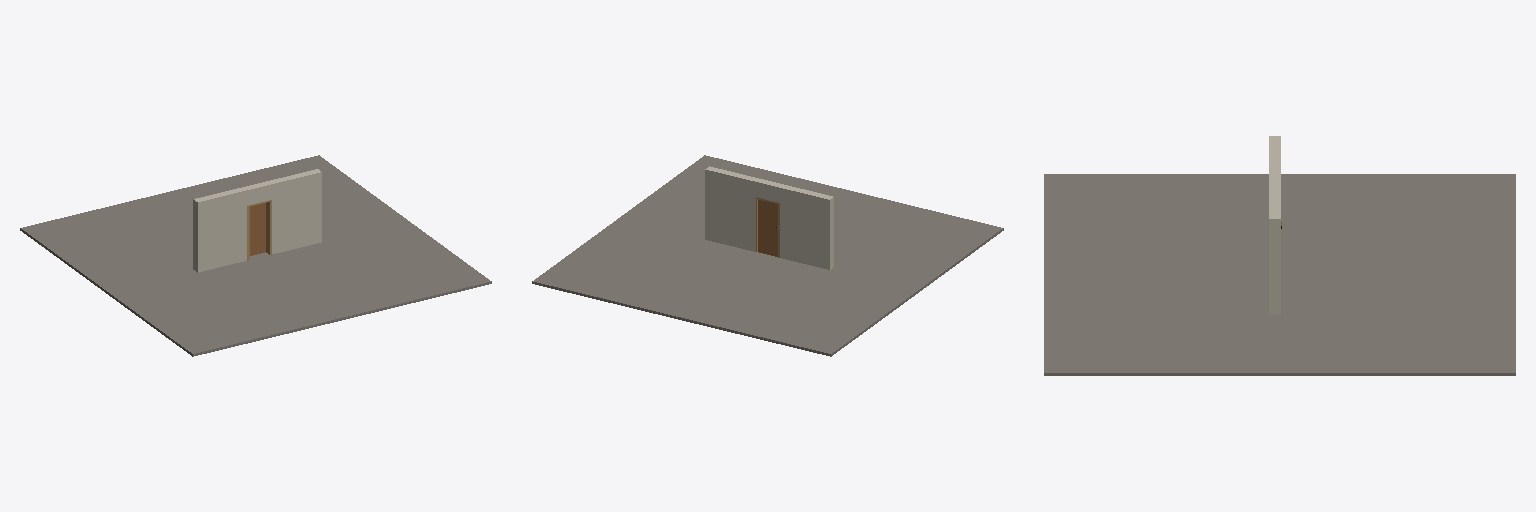
robot.urdf — db0243_swing_single_minimal:
<?xml version="1.0" ?>
<robot xmlns:doorbench="https://github.com/adamraudonis/DoorBench/schema/urdf-ext" name="db0243_swing_single_minimal">
  <link name="world_env">
    <visual name="floor_vis">
      <origin xyz="0 0 -0.05" rpy="0 0 0"/>
      <geometry>
        <box size="12 12 0.1"/>
      </geometry>
      <material name="mat_floor"/>
    </visual>
    <collision name="floor_col">
      <origin xyz="0 0 -0.05" rpy="0 0 0"/>
      <geometry>
        <box size="12 12 0.1"/>
      </geometry>
    </collision>
    <visual name="wall_left_vis">
      <origin xyz="-1.50025 -0.121 1.35" rpy="0 0 0"/>
      <geometry>
        <box size="1.9995 0.3 2.7"/>
      </geometry>
      <material name="mat_wall"/>
    </visual>
    <collision name="wall_left_col">
      <origin xyz="-1.50025 -0.121 1.35" rpy="0 0 0"/>
      <geometry>
        <box size="1.9995 0.3 2.7"/>
      </geometry>
    </collision>
    <visual name="wall_right_vis">
      <origin xyz="1.48525 -0.121 1.35" rpy="0 0 0"/>
      <geometry>
        <box size="2.0295 0.3 2.7"/>
      </geometry>
      <material name="mat_wall"/>
    </visual>
    <collision name="wall_right_col">
      <origin xyz="1.48525 -0.121 1.35" rpy="0 0 0"/>
      <geometry>
        <box size="2.0295 0.3 2.7"/>
      </geometry>
    </collision>
    <visual name="wall_header_vis">
      <origin xyz="-0.015 -0.121 2.4175" rpy="0 0 0"/>
      <geometry>
        <box size="0.971 0.3 0.565"/>
      </geometry>
      <material name="mat_wall"/>
    </visual>
    <collision name="wall_header_col">
      <origin xyz="-0.015 -0.121 2.4175" rpy="0 0 0"/>
      <geometry>
        <box size="0.971 0.3 0.565"/>
      </geometry>
    </collision>
    <visual name="jamb_hinge_vis">
      <origin xyz="0.4405 -0.121 1.0225" rpy="0 0 0"/>
      <geometry>
        <box size="0.06 0.3 2.045"/>
      </geometry>
      <material name="mat_frame"/>
    </visual>
    <collision name="jamb_hinge_col">
      <origin xyz="0.4405 -0.121 1.0225" rpy="0 0 0"/>
      <geometry>
        <box size="0.06 0.3 2.045"/>
      </geometry>
    </collision>
    <visual name="strike_1185_wall_n_vis">
      <origin xyz="-0.4555 -0.1235 1.185" rpy="0 0 0"/>
      <geometry>
        <box size="0.09 0.295 0.14"/>
      </geometry>
      <material name="mat_frame"/>
    </visual>
    <collision name="strike_1185_wall_n_col">
      <origin xyz="-0.4555 -0.1235 1.185" rpy="0 0 0"/>
      <geometry>
        <box size="0.09 0.295 0.14"/>
      </geometry>
    </collision>
    <visual name="strike_1185_wall_p_vis">
      <origin xyz="-0.4255 0.047 1.185" rpy="0 0 0"/>
      <geometry>
        <box size="0.03 0.006 0.14"/>
      </geometry>
      <material name="mat_frame"/>
    </visual>
    <collision name="strike_1185_wall_p_col">
      <origin xyz="-0.4255 0.047 1.185" rpy="0 0 0"/>
      <geometry>
        <box size="0.03 0.006 0.14"/>
      </geometry>
    </collision>
    <visual name="strike_1185_back_vis">
      <origin xyz="-0.4655 0.034 1.185" rpy="0 0 0"/>
      <geometry>
        <box size="0.07 0.02 0.14"/>
      </geometry>
      <material name="mat_frame"/>
    </visual>
    <collision name="strike_1185_back_col">
      <origin xyz="-0.4655 0.034 1.185" rpy="0 0 0"/>
      <geometry>
        <box size="0.07 0.02 0.14"/>
      </geometry>
    </collision>
    <visual name="jamb_strike_0_vis">
      <origin xyz="-0.4555 -0.121 0.5575" rpy="0 0 0"/>
      <geometry>
        <box size="0.09 0.3 1.115"/>
      </geometry>
      <material name="mat_frame"/>
    </visual>
    <collision name="jamb_strike_0_col">
      <origin xyz="-0.4555 -0.121 0.5575" rpy="0 0 0"/>
      <geometry>
        <box size="0.09 0.3 1.115"/>
      </geometry>
    </collision>
    <visual name="jamb_strike_1_vis">
      <origin xyz="-0.4555 -0.121 1.65" rpy="0 0 0"/>
      <geometry>
        <box size="0.09 0.3 0.79"/>
      </geometry>
      <material name="mat_frame"/>
    </visual>
    <collision name="jamb_strike_1_col">
      <origin xyz="-0.4555 -0.121 1.65" rpy="0 0 0"/>
      <geometry>
        <box size="0.09 0.3 0.79"/>
      </geometry>
    </collision>
    <visual name="jamb_head_vis">
      <origin xyz="-0.015 -0.121 2.075" rpy="0 0 0"/>
      <geometry>
        <box size="0.971 0.3 0.06"/>
      </geometry>
      <material name="mat_frame"/>
    </visual>
    <collision name="jamb_head_col">
      <origin xyz="-0.015 -0.121 2.075" rpy="0 0 0"/>
      <geometry>
        <box size="0.971 0.3 0.06"/>
      </geometry>
    </collision>
    <visual name="head_stud_vis">
      <origin xyz="-0.015 -0.121 2.12" rpy="0 0 0"/>
      <geometry>
        <box size="0.971 0.3 0.03"/>
      </geometry>
      <material name="mat_wall"/>
    </visual>
    <collision name="head_stud_col">
      <origin xyz="-0.015 -0.121 2.12" rpy="0 0 0"/>
      <geometry>
        <box size="0.971 0.3 0.03"/>
      </geometry>
    </collision>
    <visual name="stop_hinge_vis">
      <origin xyz="0.405 -0.0385 1.0225" rpy="0 0 0"/>
      <geometry>
        <box size="0.011 0.032 2.045"/>
      </geometry>
      <material name="mat_frame"/>
    </visual>
    <collision name="stop_hinge_col">
      <origin xyz="0.405 -0.0385 1.0225" rpy="0 0 0"/>
      <geometry>
        <box size="0.011 0.032 2.045"/>
      </geometry>
    </collision>
    <visual name="stop_strike_vis">
      <origin xyz="-0.405 -0.0385 1.0225" rpy="0 0 0"/>
      <geometry>
        <box size="0.011 0.032 2.045"/>
      </geometry>
      <material name="mat_frame"/>
    </visual>
    <collision name="stop_strike_col">
      <origin xyz="-0.405 -0.0385 1.0225" rpy="0 0 0"/>
      <geometry>
        <box size="0.011 0.032 2.045"/>
      </geometry>
    </collision>
    <visual name="stop_head_vis">
      <origin xyz="0 -0.0385 2.0395" rpy="0 0 0"/>
      <geometry>
        <box size="0.821 0.032 0.011"/>
      </geometry>
      <material name="mat_frame"/>
    </visual>
    <collision name="stop_head_col">
      <origin xyz="0 -0.0385 2.0395" rpy="0 0 0"/>
      <geometry>
        <box size="0.821 0.032 0.011"/>
      </geometry>
    </collision>
  </link>
  <link name="leaf">
    <inertial>
      <origin xyz="-0.411547 -0.029647 1.024614" rpy="0 0 0"/>
      <mass value="52.903629"/>
      <inertia ixx="17.936386692" ixy="-0.011003505" ixz="-0.006571721" iyy="20.881197614" iyz="-0.000842535" izz="2.964820357"/>
    </inertial>
    <visual name="leaf_slab_vis">
      <origin xyz="-0.4065 -0.029 1.025" rpy="0 0 0"/>
      <geometry>
        <box size="0.813 0.044 2.032"/>
      </geometry>
      <material name="mat_leaf"/>
    </visual>
    <collision name="leaf_slab_col">
      <origin xyz="-0.4065 -0.029 1.025" rpy="0 0 0"/>
      <geometry>
        <box size="0.813 0.044 2.032"/>
      </geometry>
    </collision>
    <visual name="leaf_suffolk_grip_vis">
      <origin xyz="-0.733 -0.051 1" rpy="-1.570796 0 3.141593"/>
      <geometry>
        <mesh filename="../../hardware/thumb_latch_0073ea78ed.obj"/>
      </geometry>
      <material name="mat_op_wrought_iron"/>
    </visual>
    <collision name="leaf_suffolk_grip_col_col">
      <origin xyz="-0.733 -0.086 1" rpy="0 0 0"/>
      <geometry>
        <cylinder radius="0.008" length="0.18"/>
      </geometry>
    </collision>
  </link>
  <link name="leaf_thumb">
    <inertial>
      <origin xyz="0 -0.02 0" rpy="0 0 0"/>
      <mass value="0.03528"/>
      <inertia ixx="0.000002411" ixy="0" ixz="0" iyy="0.000002752" iyz="0" izz="0.000004951"/>
    </inertial>
    <visual name="leaf_thumb_geom_vis">
      <origin xyz="0 -0.02 0" rpy="0 0 0"/>
      <geometry>
        <box size="0.03 0.028 0.006"/>
      </geometry>
      <material name="mat_op_wrought_iron"/>
    </visual>
    <collision name="leaf_thumb_geom_col">
      <origin xyz="0 -0.02 0" rpy="0 0 0"/>
      <geometry>
        <box size="0.03 0.028 0.006"/>
      </geometry>
    </collision>
  </link>
  <link name="leaf_latch_bar">
    <inertial>
      <origin xyz="-0.106 0 0" rpy="0 0 0"/>
      <mass value="0.25"/>
      <inertia ixx="0.000004465" ixy="0" ixz="0" iyy="0.000904065" iyz="0" izz="0.000904065"/>
    </inertial>
    <visual name="leaf_latch_bar_geom_vis">
      <origin xyz="-0.106 0 0" rpy="0 -1.570796 0"/>
      <geometry>
        <cylinder radius="0.006" length="0.2"/>
      </geometry>
      <material name="mat_op_wrought_iron"/>
    </visual>
    <collision name="leaf_latch_bar_geom_col">
      <origin xyz="-0.106 0 0" rpy="0 -1.570796 0"/>
      <geometry>
        <cylinder radius="0.006" length="0.2"/>
      </geometry>
    </collision>
  </link>
  <joint name="leaf_hinge" type="revolute">
    <origin xyz="0.4075 0.029 0" rpy="0 0 0"/>
    <parent link="world_env"/>
    <child link="leaf"/>
    <axis xyz="0 0 -1"/>
    <limit lower="0" upper="1.396263" effort="2000" velocity="10"/>
    <dynamics damping="0.210326" friction="8.492064"/>
    <doorbench:closer damping_closing="0" damping_opening="0" backcheck_angle="0" backcheck_damping="0"/>
  </joint>
  <joint name="leaf_thumb_hinge" type="revolute">
    <origin xyz="-0.733 -0.051 1.145" rpy="0 0 0"/>
    <parent link="leaf"/>
    <child link="leaf_thumb"/>
    <axis xyz="1 0 0"/>
    <limit lower="0" upper="0.3" effort="2000" velocity="10"/>
    <dynamics damping="0.155346" friction="0.032"/>
    <doorbench:spring stiffness="0.6" springref="-0.5" note="tau = -stiffness*(q - springref); not native URDF"/>
  </joint>
  <joint name="leaf_latch_bar_hinge" type="revolute">
    <origin xyz="-0.613 0.005 1.14" rpy="0 0 0"/>
    <parent link="leaf"/>
    <child link="leaf_latch_bar"/>
    <axis xyz="0 1 0"/>
    <limit lower="0" upper="0.6" effort="2000" velocity="10"/>
    <dynamics damping="0.01" friction="0.01"/>
    <mimic joint="leaf_thumb_hinge" multiplier="2" offset="0"/>
  </joint>
  <material name="mat_floor">
    <color rgba="0.55 0.53 0.5 1"/>
  </material>
  <material name="mat_frame">
    <color rgba="0.7 0.58 0.42 1"/>
  </material>
  <material name="mat_leaf">
    <color rgba="0.62 0.45 0.3 1"/>
  </material>
  <material name="mat_op_wrought_iron">
    <color rgba="0.08 0.08 0.09 1"/>
  </material>
  <material name="mat_wall">
    <color rgba="0.78 0.76 0.7 1"/>
  </material>
</robot>

--- What the picture shows (computed from the rendered views, not written in the file) ---
3 views of the same robot in one strip: view 1: azimuth 30°, elevation 25°; view 2: azimuth 150°, elevation 25°; view 3: azimuth 270°, elevation 25° (orthographic).
Model db0243_swing_single_minimal with 4 links and 3 joints (3 revolute), rooted at world_env, posed every joint at zero.
Visible links, largest first — view 1: world_env, leaf; view 2: world_env, leaf; view 3: world_env.
Link boxes in pixels (x1,y1,x2,y2): world_env: (20,155,491,356); leaf: (250,203,265,255); world_env: (532,155,1003,356); leaf: (758,200,777,256); world_env: (1044,136,1515,375).
Bounding box of the posed robot: 12 × 12 × 2.8 m (x, y, z).
1 mesh visuals loaded from 1 distinct referenced files (1 OBJ).
